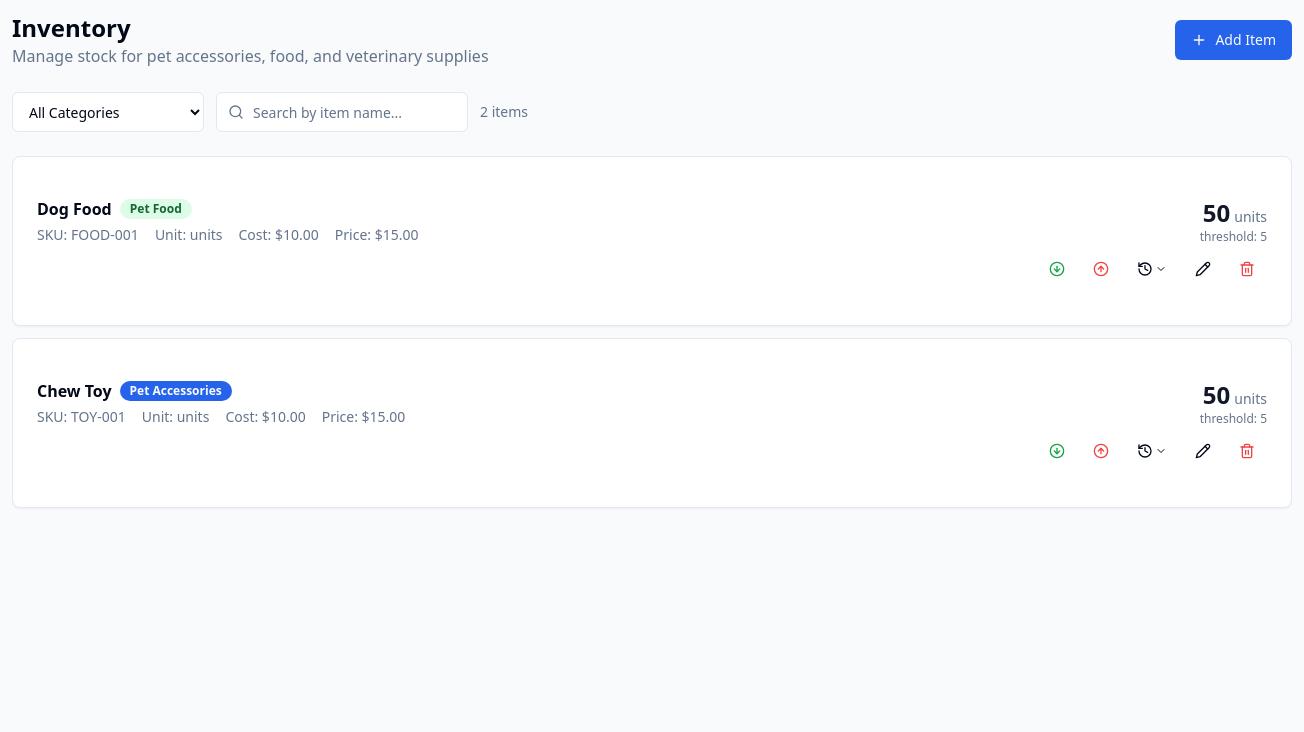
Test case: InventoryPage › filters items by category
Expected: the text "Dog Food" is shown, [37, 197, 112, 221]
Expected: the text "Chew Toy" is shown, [37, 379, 112, 403]
# Select Pet Food category
Select "Pet Food" in the dropdown: (108, 112) [12, 92, 204, 132]
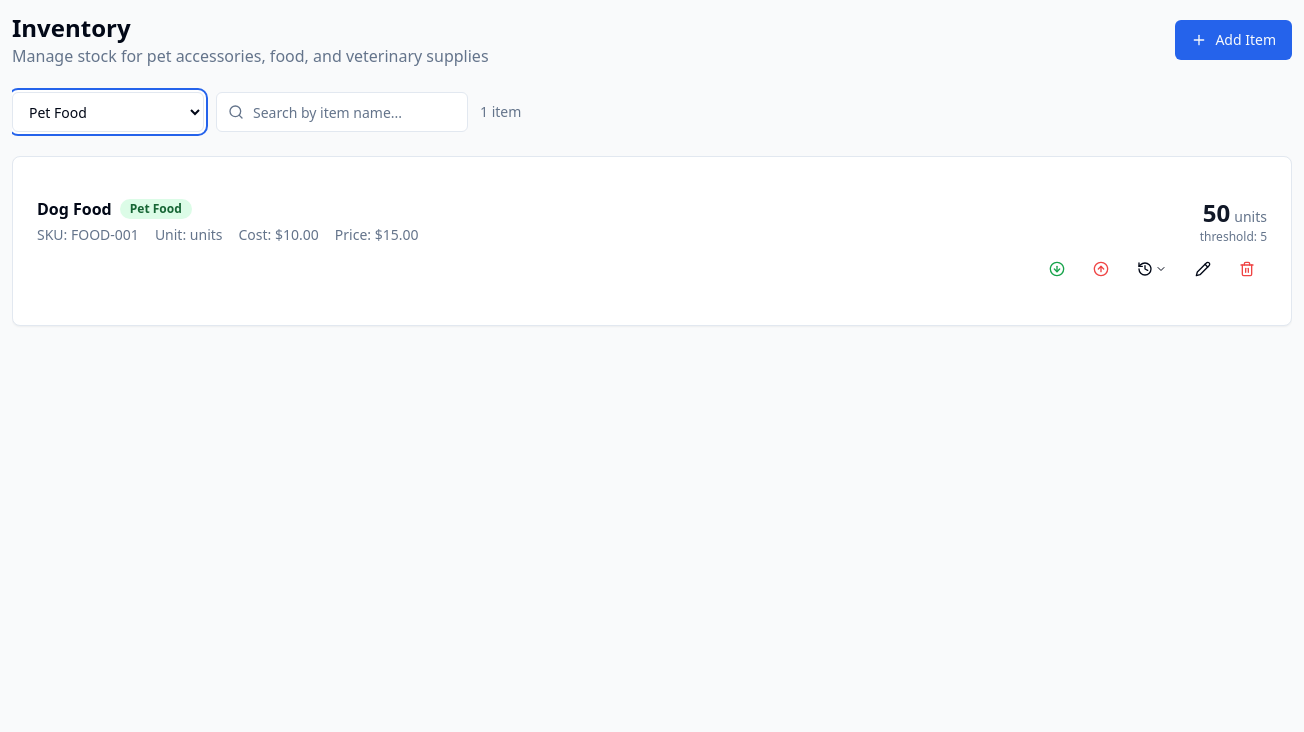
Expected: the text "Dog Food" is shown, [37, 197, 112, 221]
Expected: the text "Chew Toy" is gone
